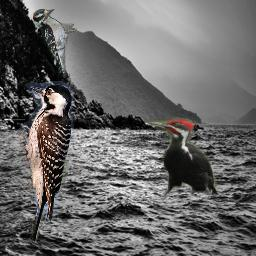Woodpecker: (20, 80, 74, 247), (147, 114, 219, 200), (33, 9, 77, 78)
